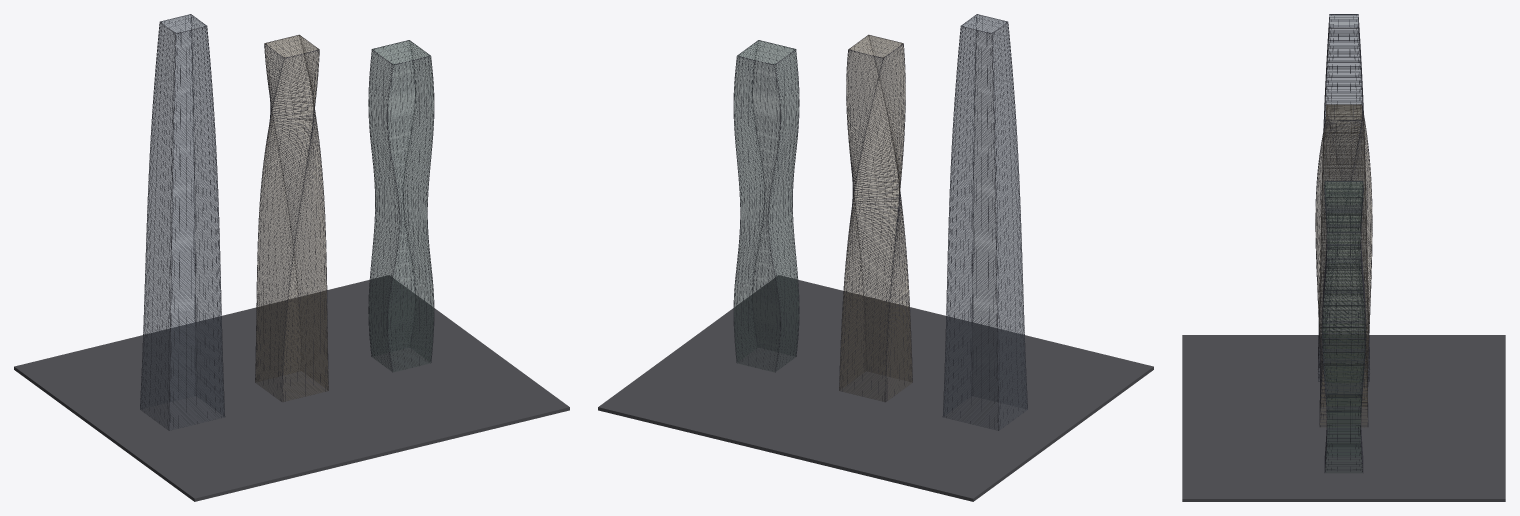
3 views of the same model, side by side, from view 1: azimuth 30°, elevation 25°; view 2: azimuth 150°, elevation 25°; view 3: azimuth 270°, elevation 25° (orthographic). The views are drawn at different scales.
Visible parts, largest first — view 1: Cube, IndustrialBlue, IndustrialGold, IndustrialGreen; view 2: Cube, IndustrialBlue, IndustrialGold, IndustrialGreen; view 3: Cube, IndustrialGold, IndustrialGreen, IndustrialBlue.
Boxes of the visible parts, x1,y1,x2,y2 form: Cube: (14, 275, 569, 501); IndustrialBlue: (140, 14, 225, 430); IndustrialGold: (255, 34, 328, 402); IndustrialGreen: (368, 40, 434, 372); Cube: (598, 275, 1153, 501); IndustrialBlue: (942, 14, 1027, 430); IndustrialGold: (839, 34, 912, 402); IndustrialGreen: (733, 40, 799, 372); Cube: (1182, 335, 1505, 501); IndustrialGold: (1315, 104, 1372, 427); IndustrialGreen: (1322, 181, 1365, 472); IndustrialBlue: (1318, 14, 1369, 381).
Bounding box in the file's own units: 120 × 120 × 100.
